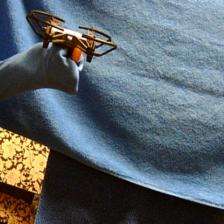drone: (27, 9, 119, 64)
